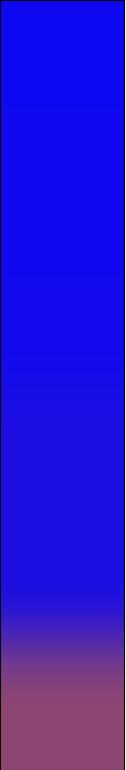Thermal Runaway: (10, 681, 114, 759)
safe: (6, 5, 119, 670)
